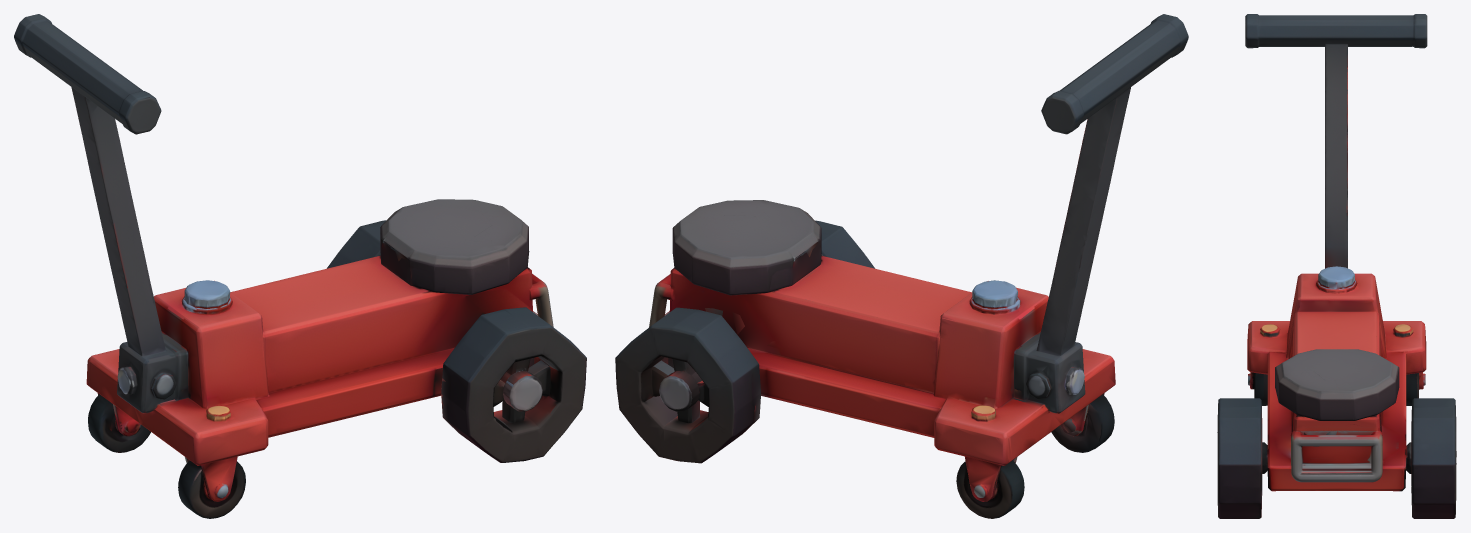
Rendered from FloorJack.fbx.
The picture shows the model from 3 angles, left to right: view 1: azimuth 30°, elevation 25°; view 2: azimuth 150°, elevation 25°; view 3: azimuth 270°, elevation 25°; orthographic projection. The views are drawn at different scales.
Visible parts, largest first — view 1: texture_pbr_v128; view 2: texture_pbr_v128; view 3: texture_pbr_v128.
Part boxes in pixels (left/top/right/bottom): texture_pbr_v128: left=14, top=14, right=586, bottom=518; texture_pbr_v128: left=615, top=14, right=1188, bottom=518; texture_pbr_v128: left=1217, top=14, right=1456, bottom=518.
Bounding box in the file's own units: 85.91 × 79.48 × 48.37.
1 material, 1 textured.
